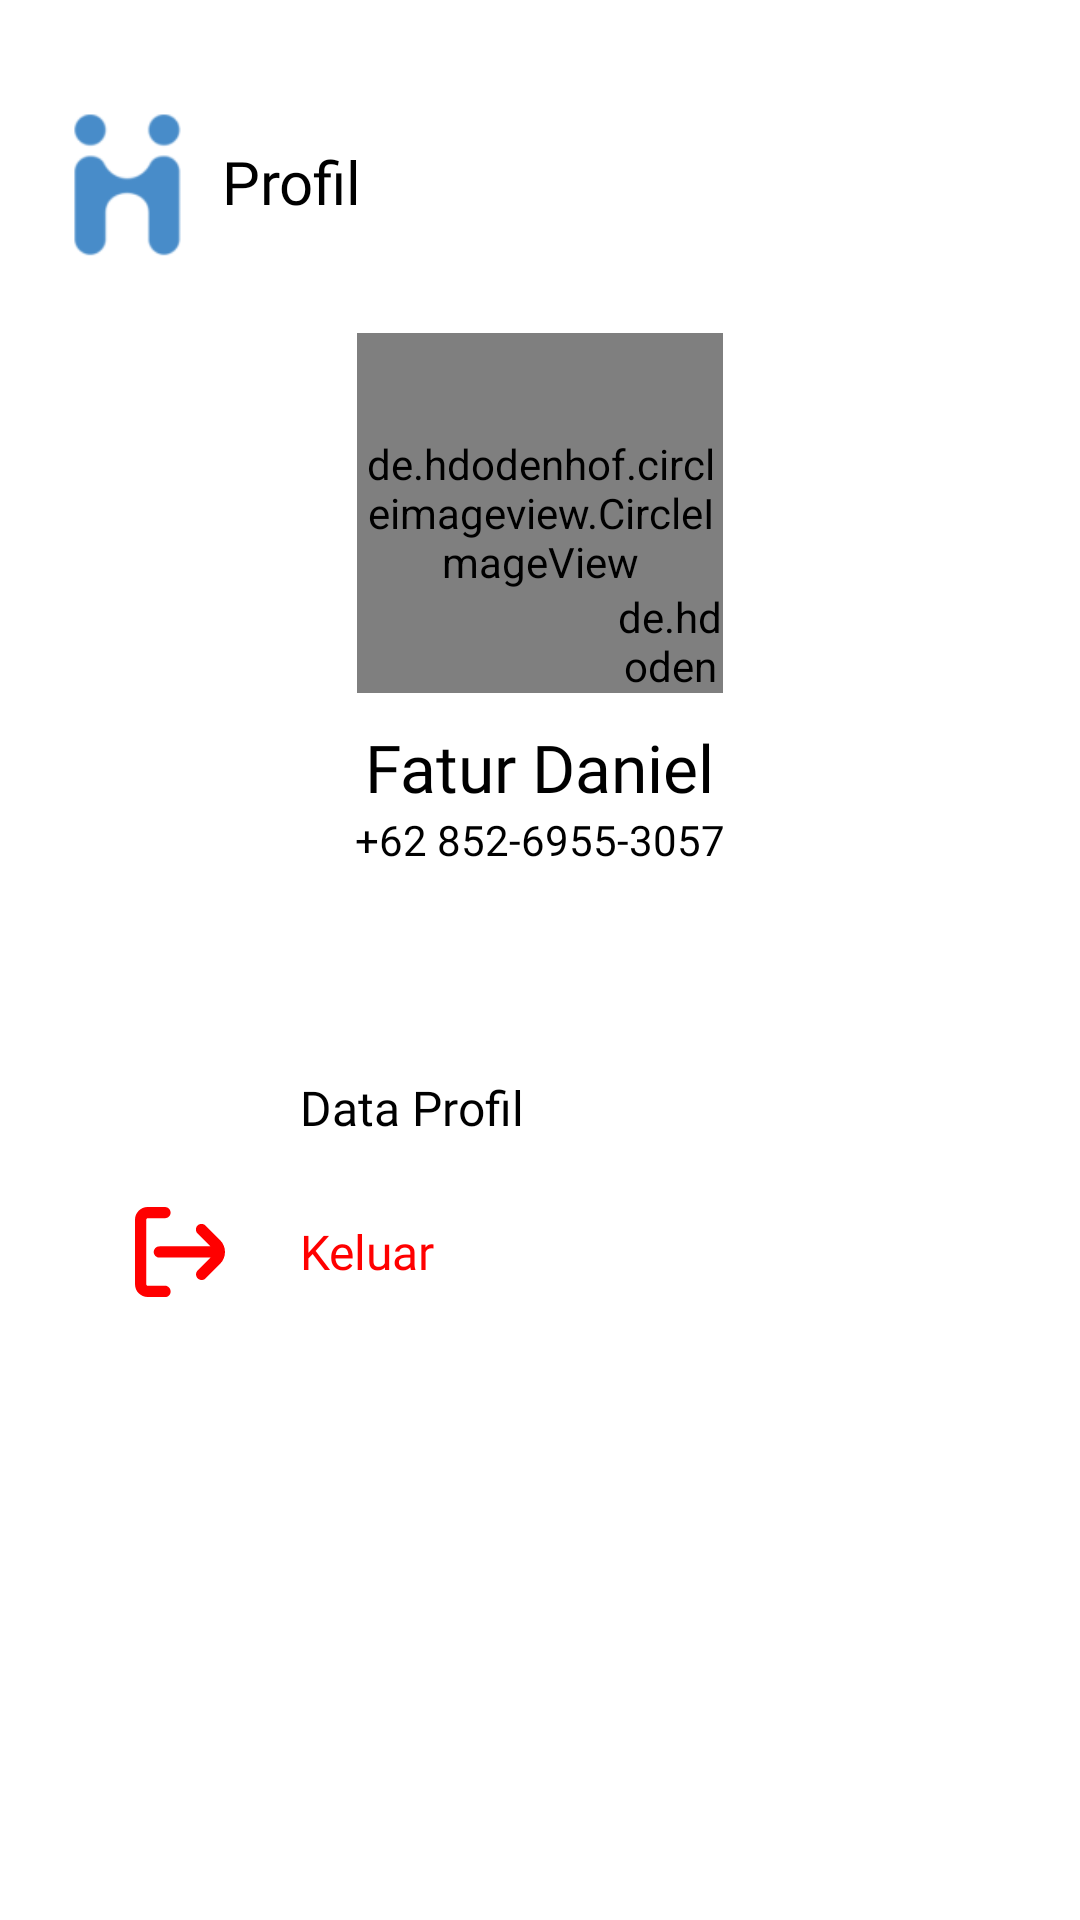

Icons on this 1080×1920 Android screen, each with its box as bbox=[x1, y1, x2, y2]:
exit: bbox=[135, 1207, 225, 1297]
